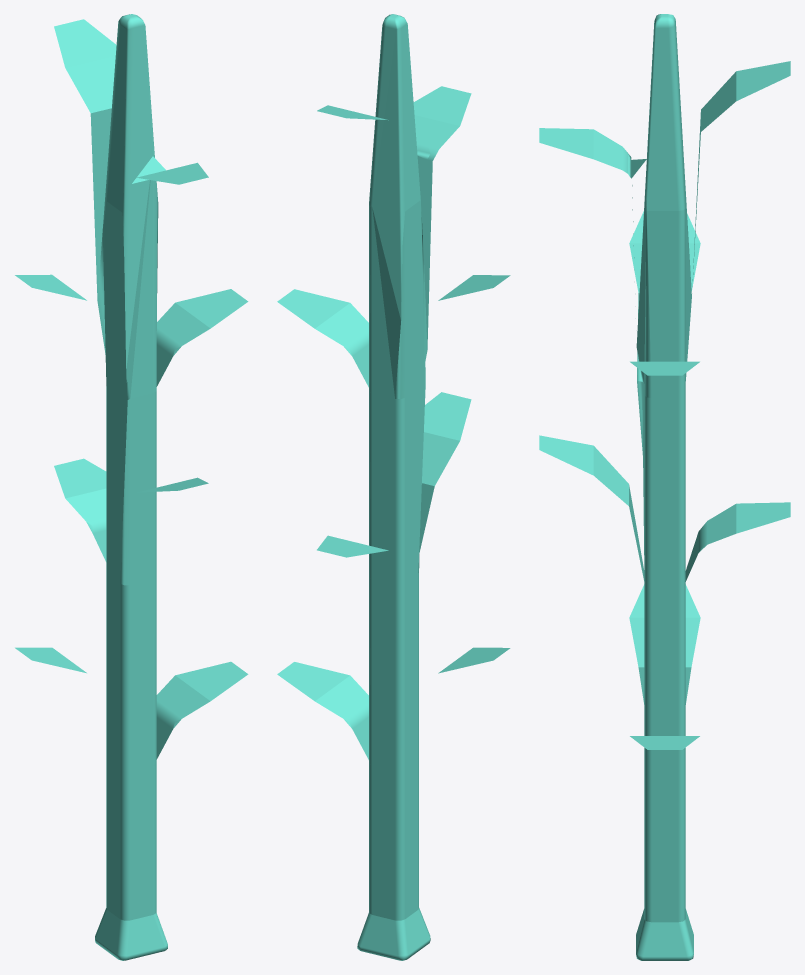
File: crops_cornStageC.glb
The picture shows the model from 3 angles, left to right: view 1: azimuth 30°, elevation 25°; view 2: azimuth 150°, elevation 25°; view 3: azimuth 270°, elevation 25°; orthographic projection.
Parts seen in each view (by area): view 1: crops_cornStageC; view 2: crops_cornStageC; view 3: crops_cornStageC.
Boxes of the visible parts, bbox=[...] form: crops_cornStageC: bbox=[15, 14, 248, 960]; crops_cornStageC: bbox=[277, 14, 510, 960]; crops_cornStageC: bbox=[539, 14, 790, 960].
Bounding box in the file's own units: 0.3042 × 1.25 × 0.3042.
